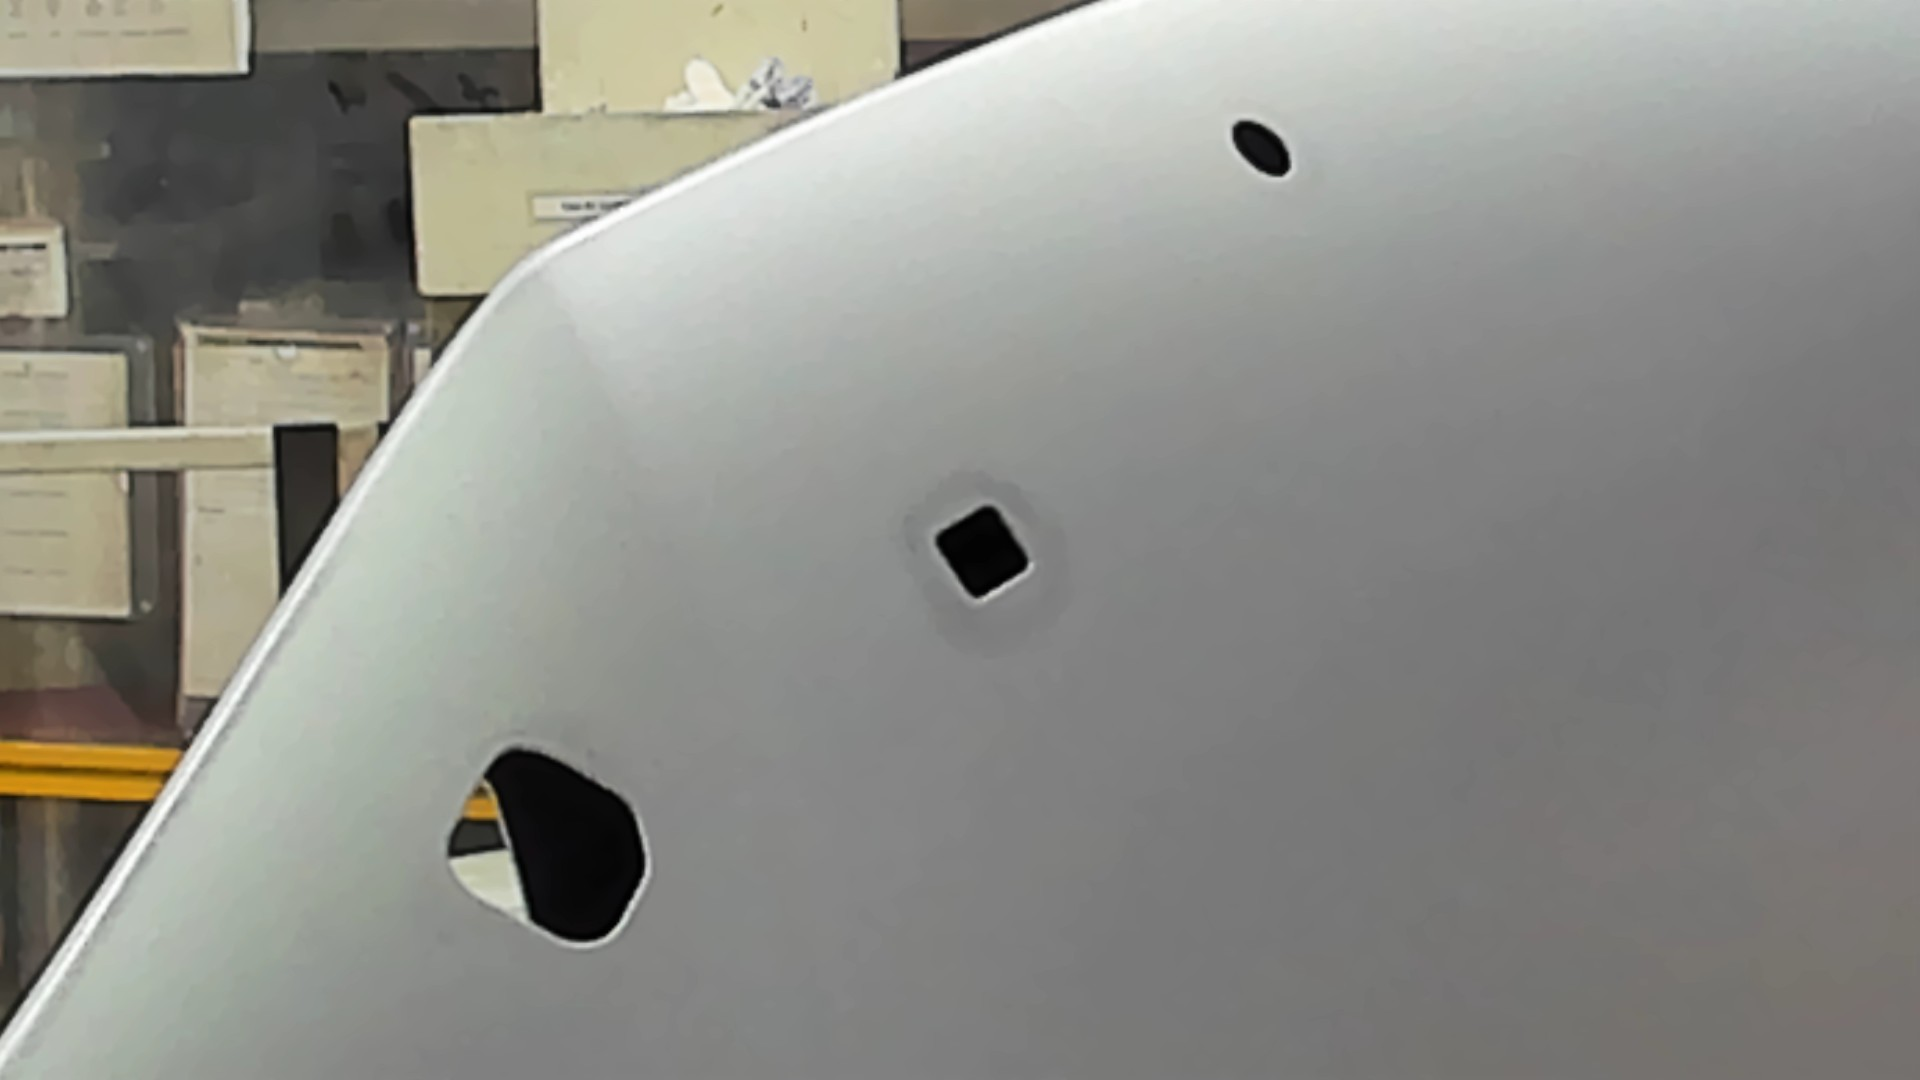capo: (1048, 185, 1920, 1080)
chico: (1226, 113, 1298, 186)
grande: (443, 737, 659, 961)
mediano: (924, 495, 1040, 618)
